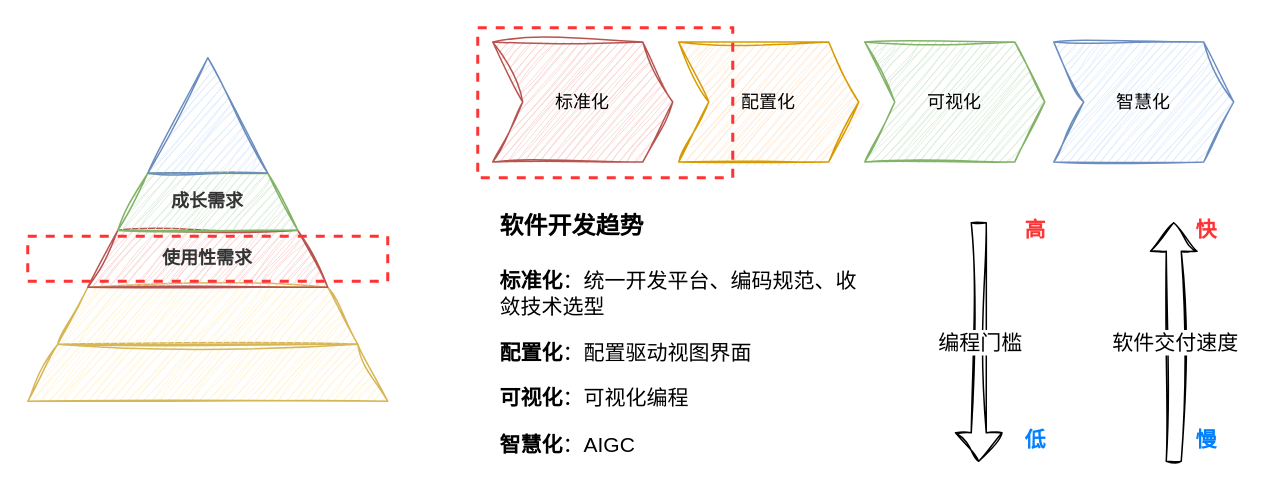
The diagram is 1263 pixels wide and 503 high, and some of its shapes have lost their labels. The centre of each missing label's shape, as x and y in pixels:
可靠性需求: point (207, 315)
基础需求: point (207, 372)
实现潜能: point (207, 114)
